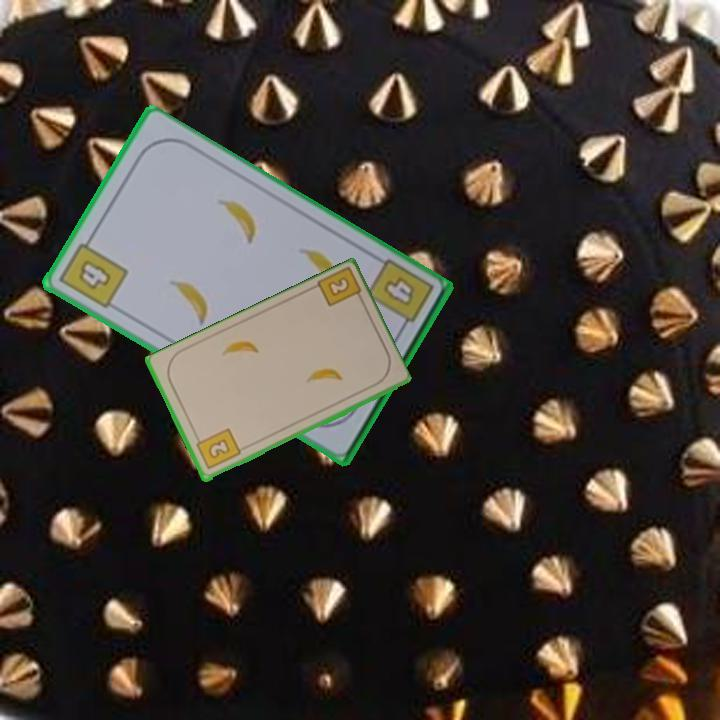2b: (312, 266, 367, 310), (192, 425, 243, 472)
4b: (55, 232, 131, 312), (363, 256, 437, 337)
